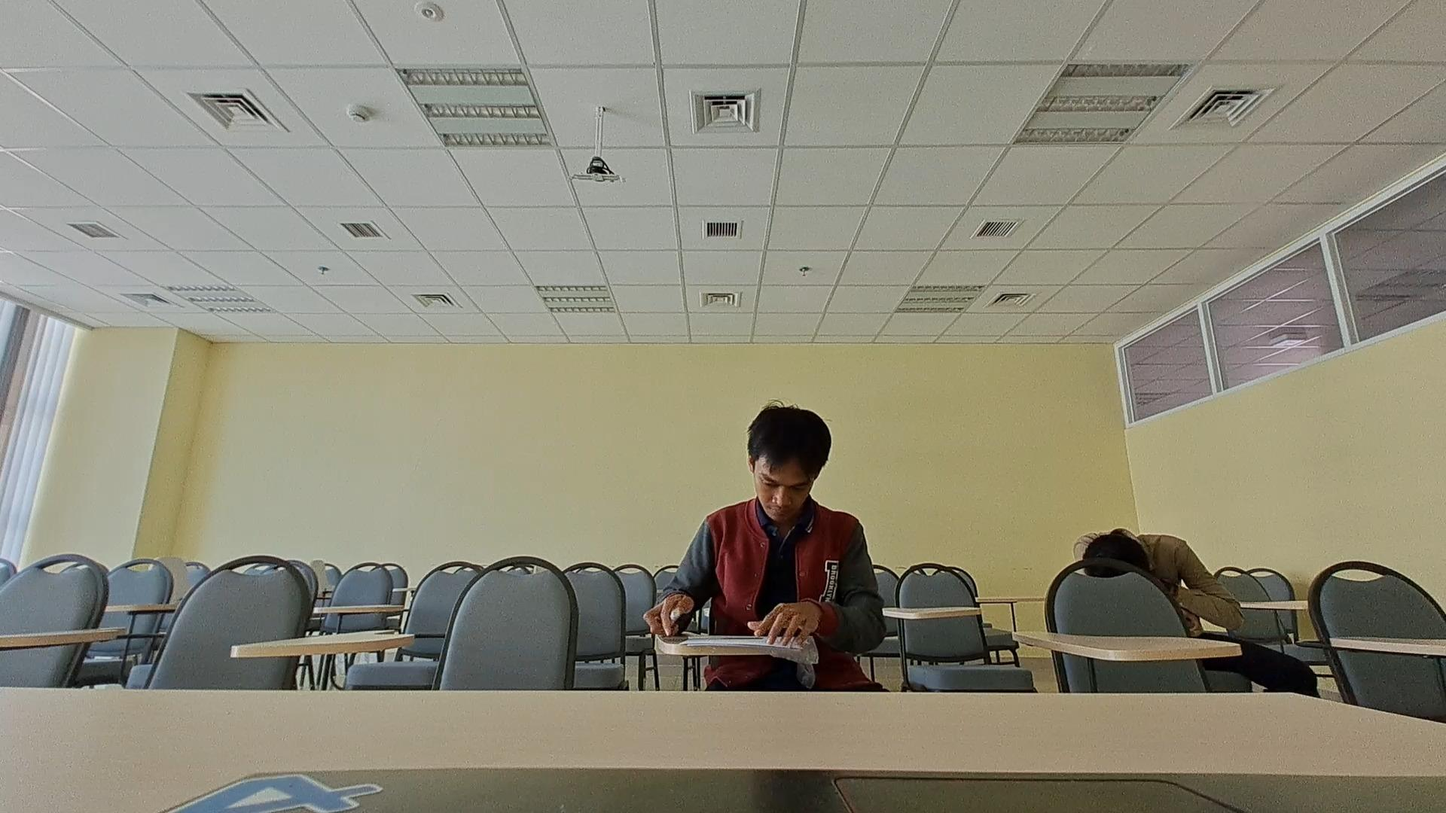sleep: (1071, 525, 1246, 638)
study: (655, 403, 881, 698)
